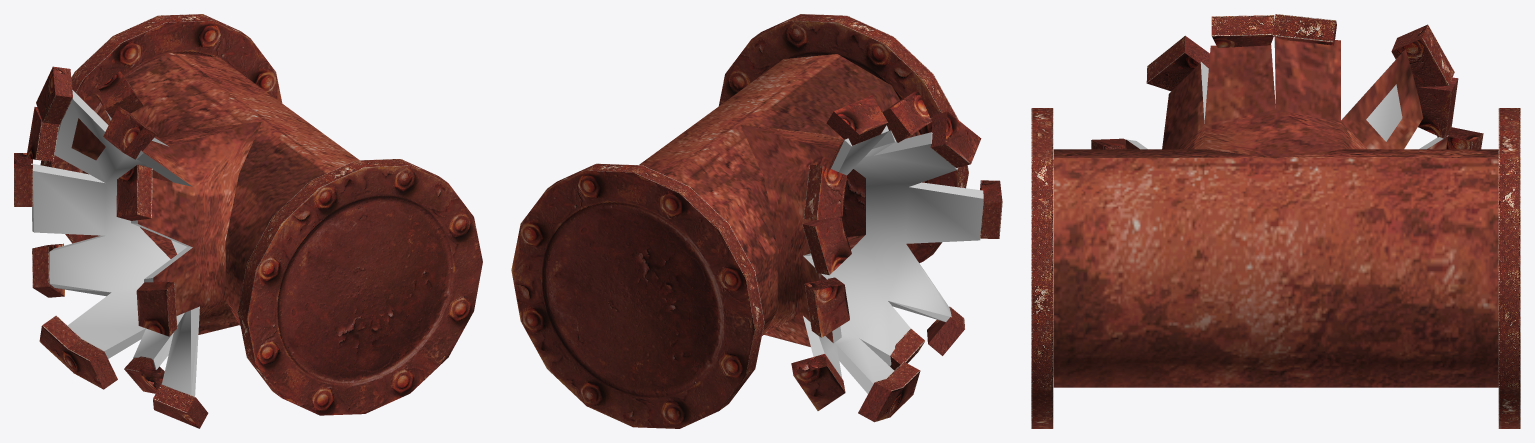
The model's file is valve_broken_red.DAE.
3 renders of one model, left to right at view 1: azimuth 30°, elevation 25°; view 2: azimuth 150°, elevation 25°; view 3: azimuth 270°, elevation 25°, orthographic. The views are drawn at different scales.
Visible parts, largest first — view 1: Box345, Box346, Object557; view 2: Box345, Box346, Object557; view 3: Box346, Box345, Object557.
Part boxes in pixels (x1=…): Box345: x1=14, y1=14, x2=482, y2=428; Box346: x1=71, y1=52, x2=359, y2=334; Object557: x1=31, y1=90, x2=199, y2=396; Box345: x1=511, y1=14, x2=1002, y2=428; Box346: x1=639, y1=54, x2=924, y2=346; Object557: x1=803, y1=125, x2=983, y2=393; Box346: x1=1053, y1=37, x2=1498, y2=387; Box345: x1=1031, y1=14, x2=1520, y2=428; Object557: x1=1053, y1=41, x2=1448, y2=376.
Size of the model in its own units: 0.8559 by 1 by 0.7709.
